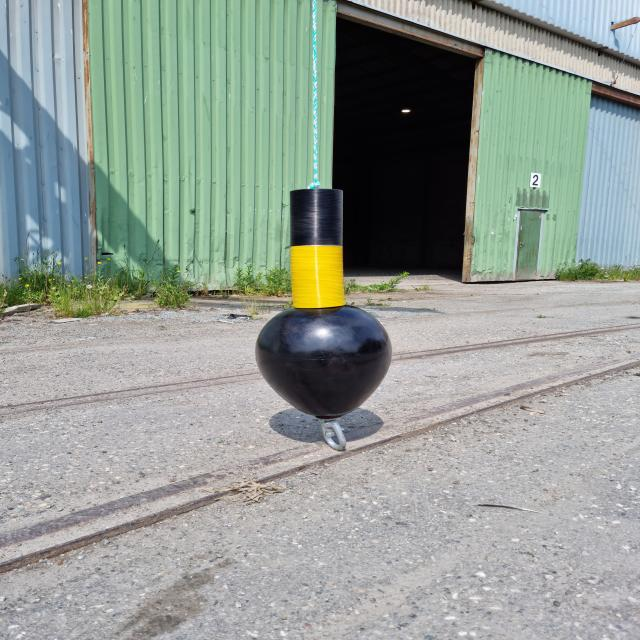east: (253, 187, 392, 418)
